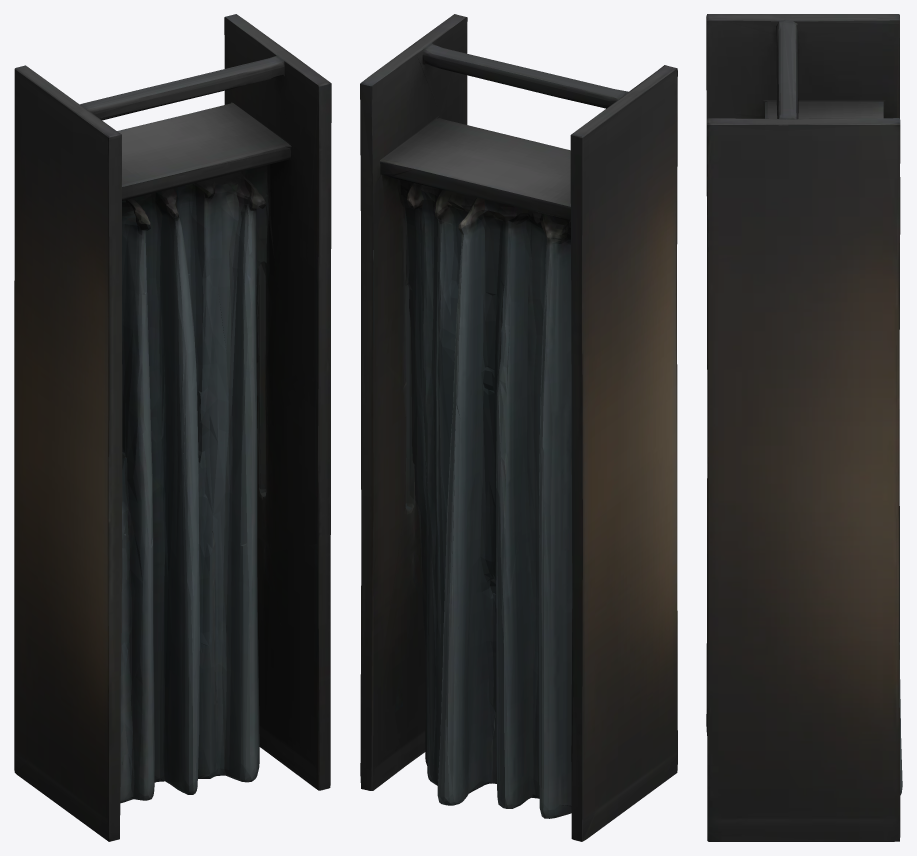
3 renders of one model, left to right at view 1: azimuth 30°, elevation 25°; view 2: azimuth 150°, elevation 25°; view 3: azimuth 270°, elevation 25°, orthographic.
Visible parts, largest first — view 1: geometry_0; view 2: geometry_0; view 3: geometry_0.
Part boxes in pixels (bbox=[...]): geometry_0: bbox=[14, 14, 331, 841]; geometry_0: bbox=[360, 14, 677, 841]; geometry_0: bbox=[706, 14, 902, 841].
Bounding box in the file's own units: 0.3313 × 0.9998 × 0.2475.
Materials: 1 (1 with a texture image).
